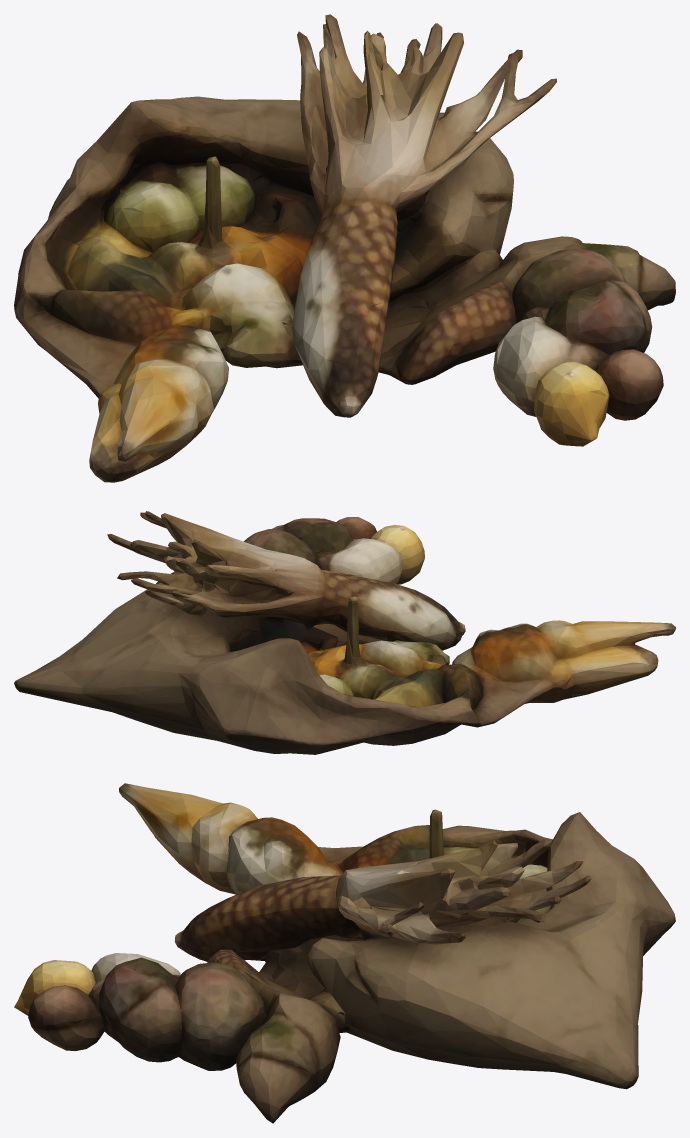
The model's file is sack_harvest_corn_pumpkins.glb.
3 views of the same model, one above another, from view 1: azimuth 30°, elevation 25°; view 2: azimuth 150°, elevation 25°; view 3: azimuth 270°, elevation 25° (orthographic). The views are drawn at different scales.
Parts seen in each view (by area): view 1: geometry_0; view 2: geometry_0; view 3: geometry_0.
Boxes of the visible parts, left/top/right/bottom form: geometry_0: left=14, top=14, right=675, bottom=482; geometry_0: left=14, top=511, right=675, bottom=754; geometry_0: left=14, top=783, right=675, bottom=1123.
Size of the model in its own units: 1 by 0.3617 by 0.9961.
Materials: 1 (1 with a texture image).
